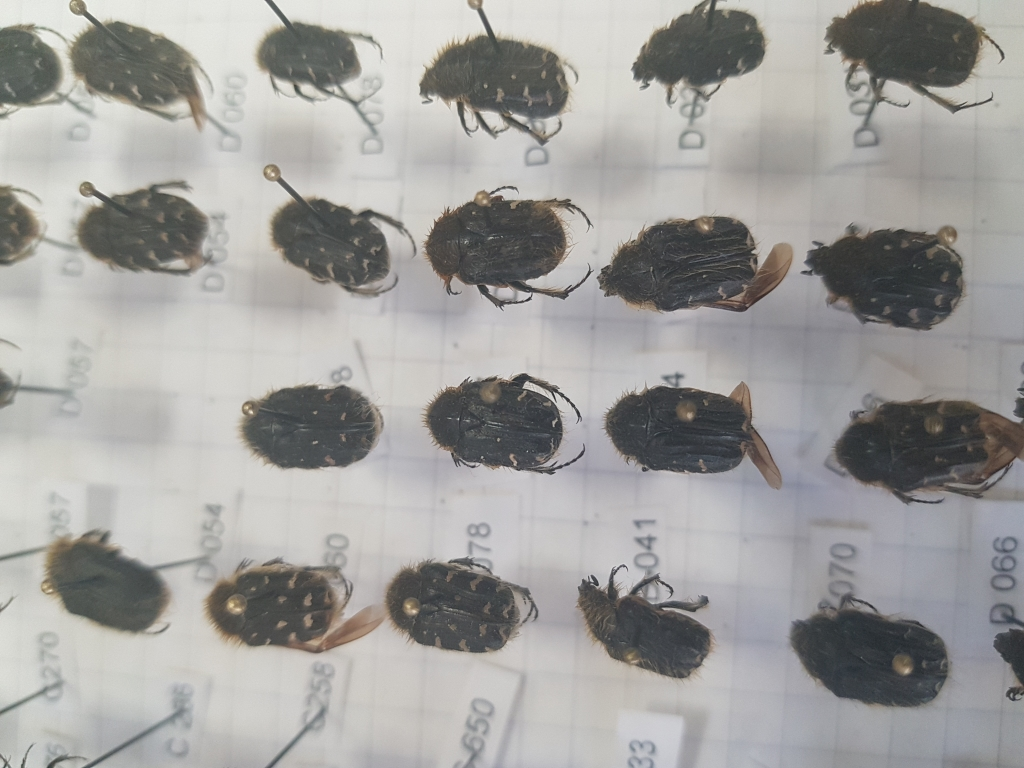Tropinota_hirta: (421, 173, 598, 321), (590, 194, 800, 312), (422, 337, 585, 476), (375, 538, 550, 652)
